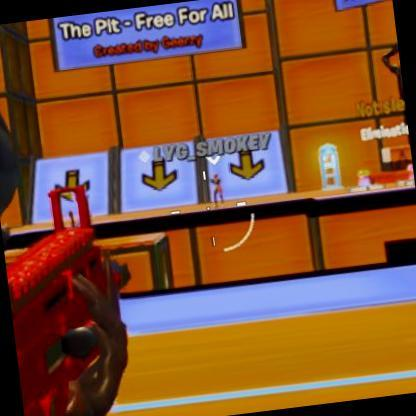person: (210, 169, 228, 203)
